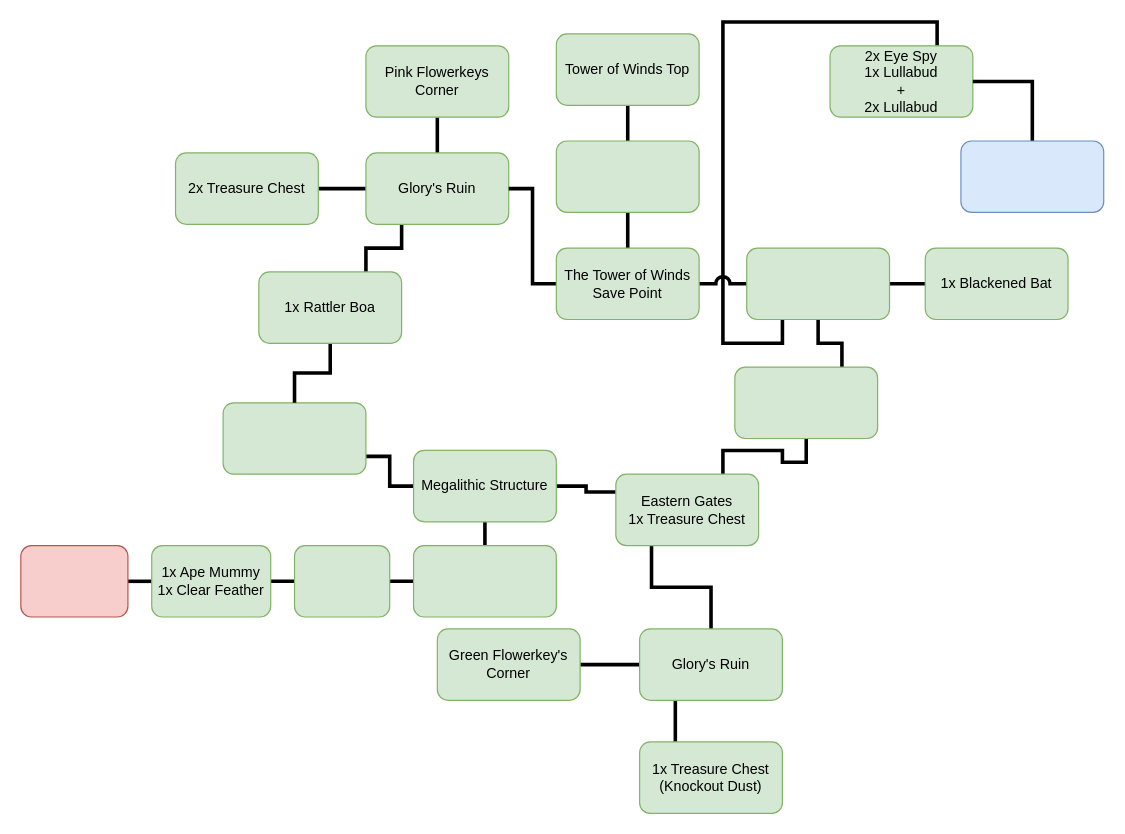
Some shapes in this 1125 by 834 pixel diagram are drawn without their labels. The centre of each missing label's shape, as x and y in pixels:
"1x Succubus" goes at (x=341, y=580).
"Boss Arena" goes at (x=74, y=580).
"Entrance" goes at (x=1032, y=176).
"Glory's Ruin 1x Marlboro" goes at (x=806, y=402).
"Inside the Structure 1x Chess Knight" goes at (x=484, y=580).
"Tower of Winds Mid" goes at (x=627, y=176).
"Western Gate (Pink Flowerkeys)" goes at (x=294, y=438).
